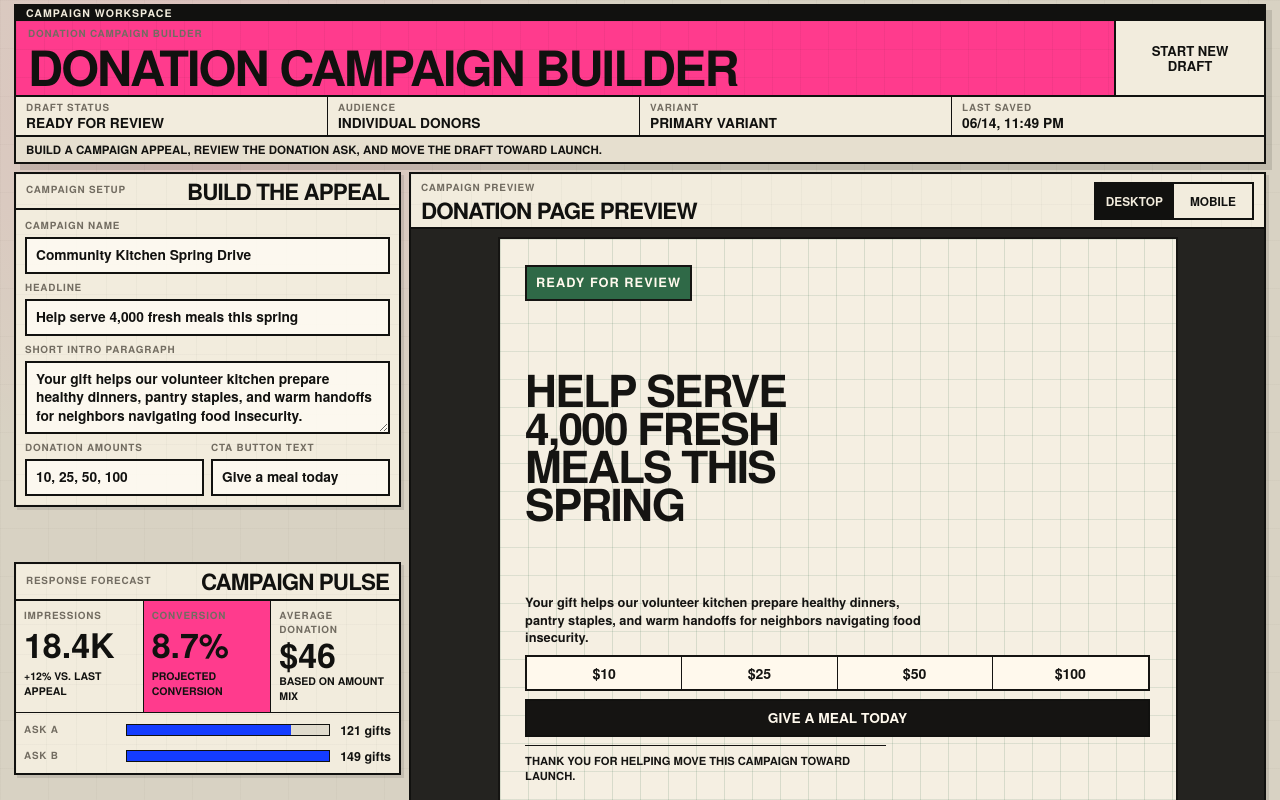
Scenario: updates the live preview as headline changes
Replace the text in the field labelled "Headline" with "Fund the winter shelter hotline" at (208, 317), box [25,299,390,336]
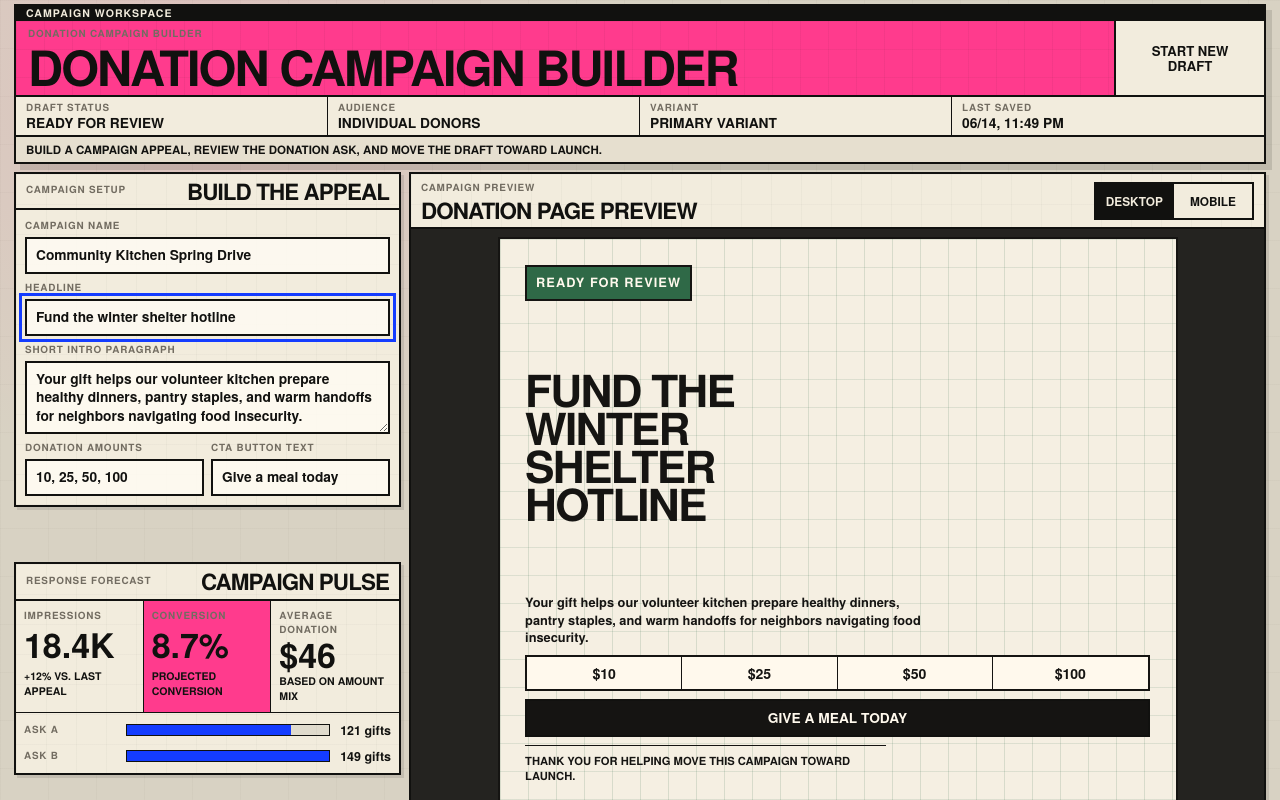
Now the heading "Fund the winter shelter hotline" is shown, box [525,357,734,535]
